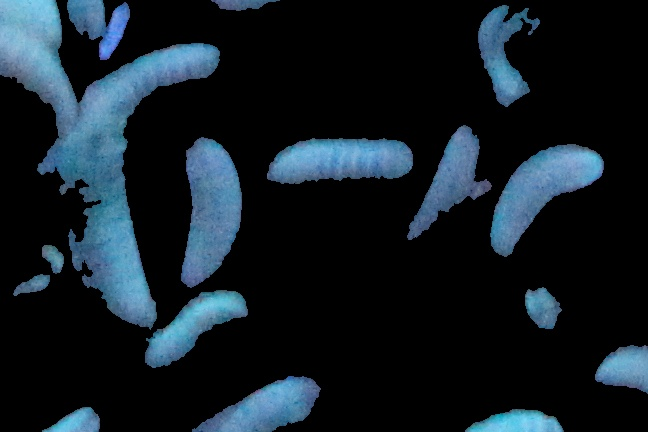larvae: (64, 98, 160, 334), (487, 134, 608, 263), (1, 25, 81, 194), (81, 38, 226, 125), (401, 123, 485, 257), (178, 130, 245, 290), (462, 1, 549, 117), (137, 290, 253, 373), (260, 138, 420, 186), (186, 375, 320, 432)
